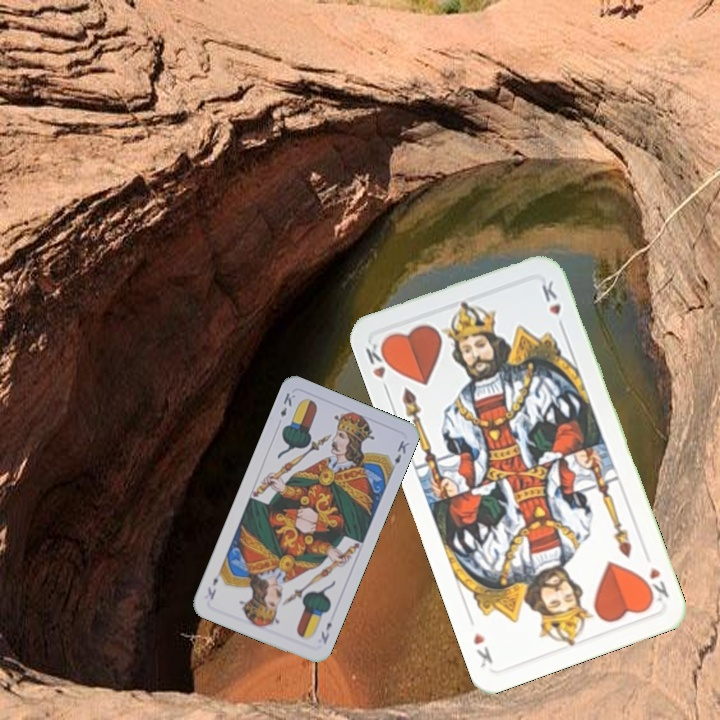EK: (276, 389, 298, 420), (317, 618, 334, 647)
HK: (361, 338, 396, 397), (639, 563, 672, 608)
